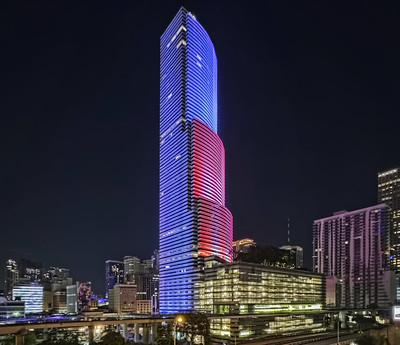building: (154, 4, 238, 324)
